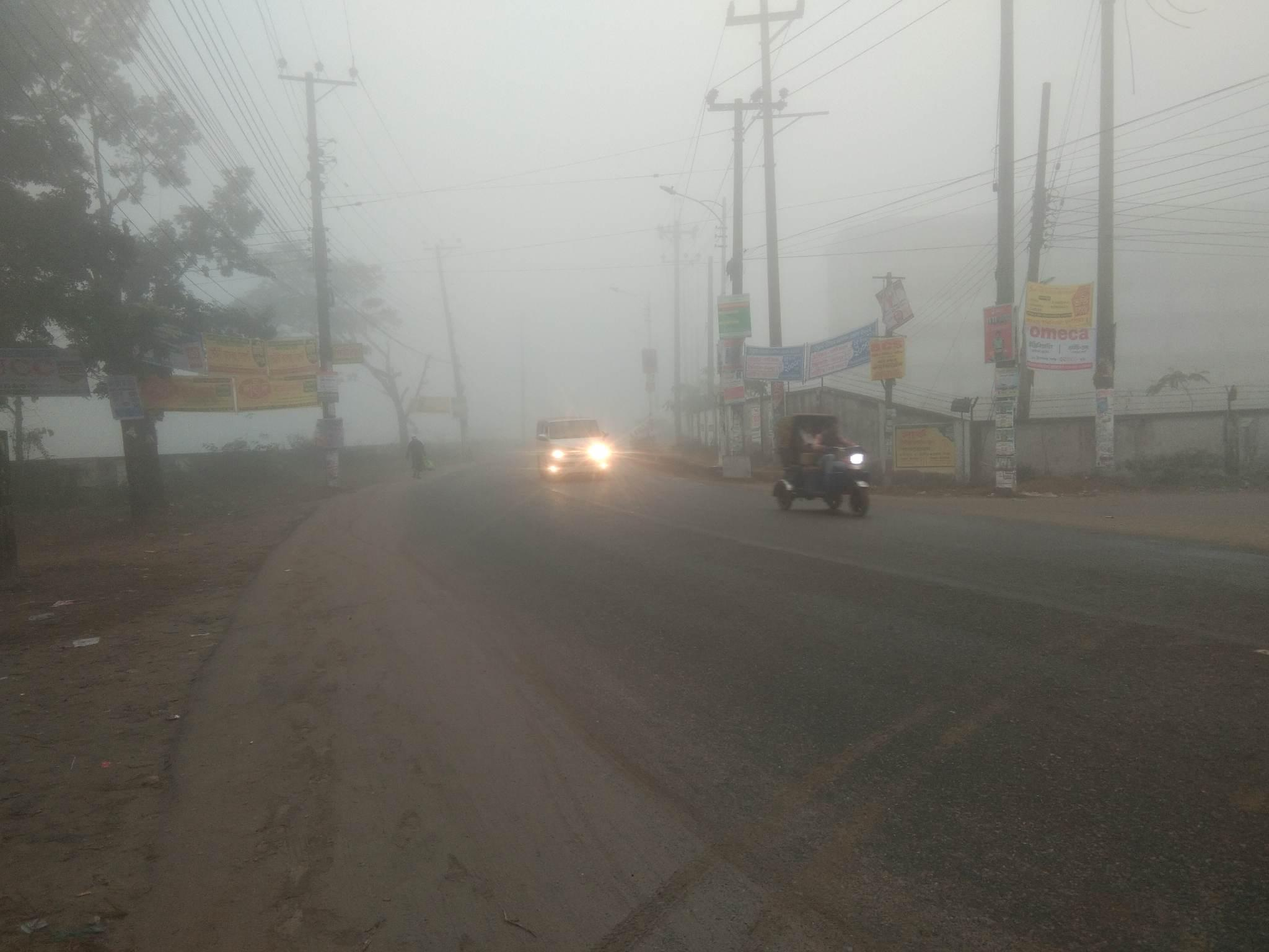Car: (755, 399, 877, 539), (524, 407, 636, 510)
